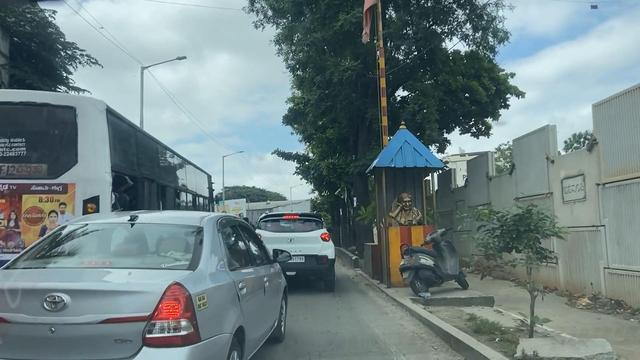LMV: (8, 214, 262, 360)
